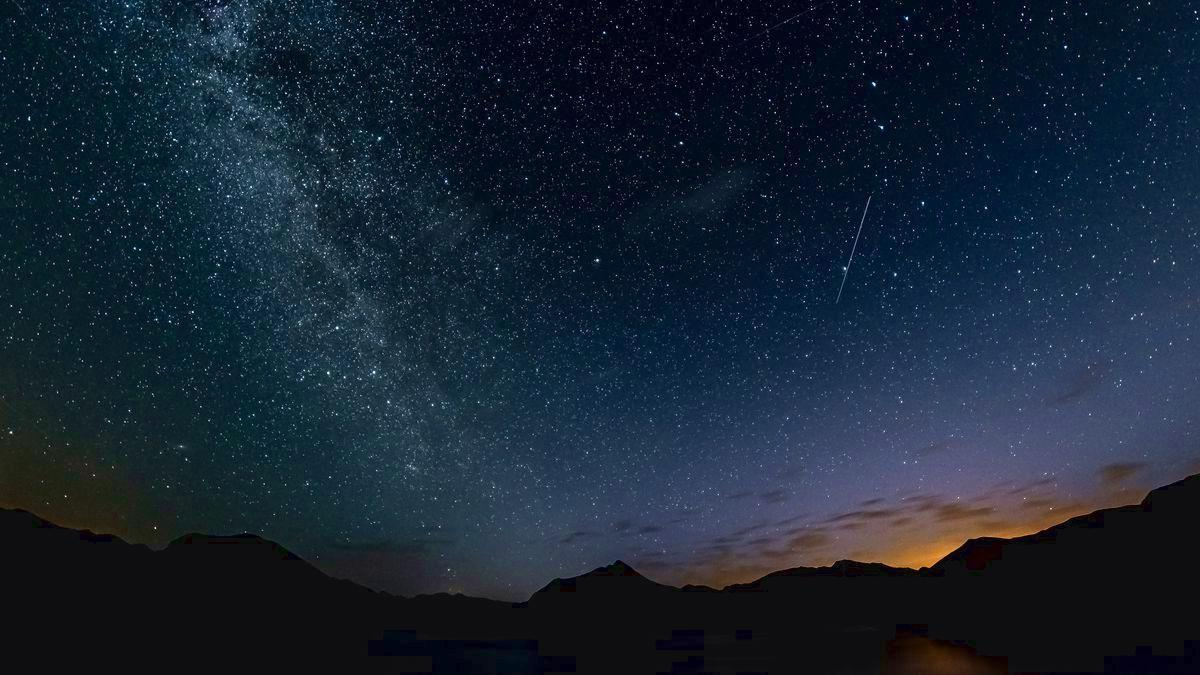meteorite: (833, 183, 879, 303)
